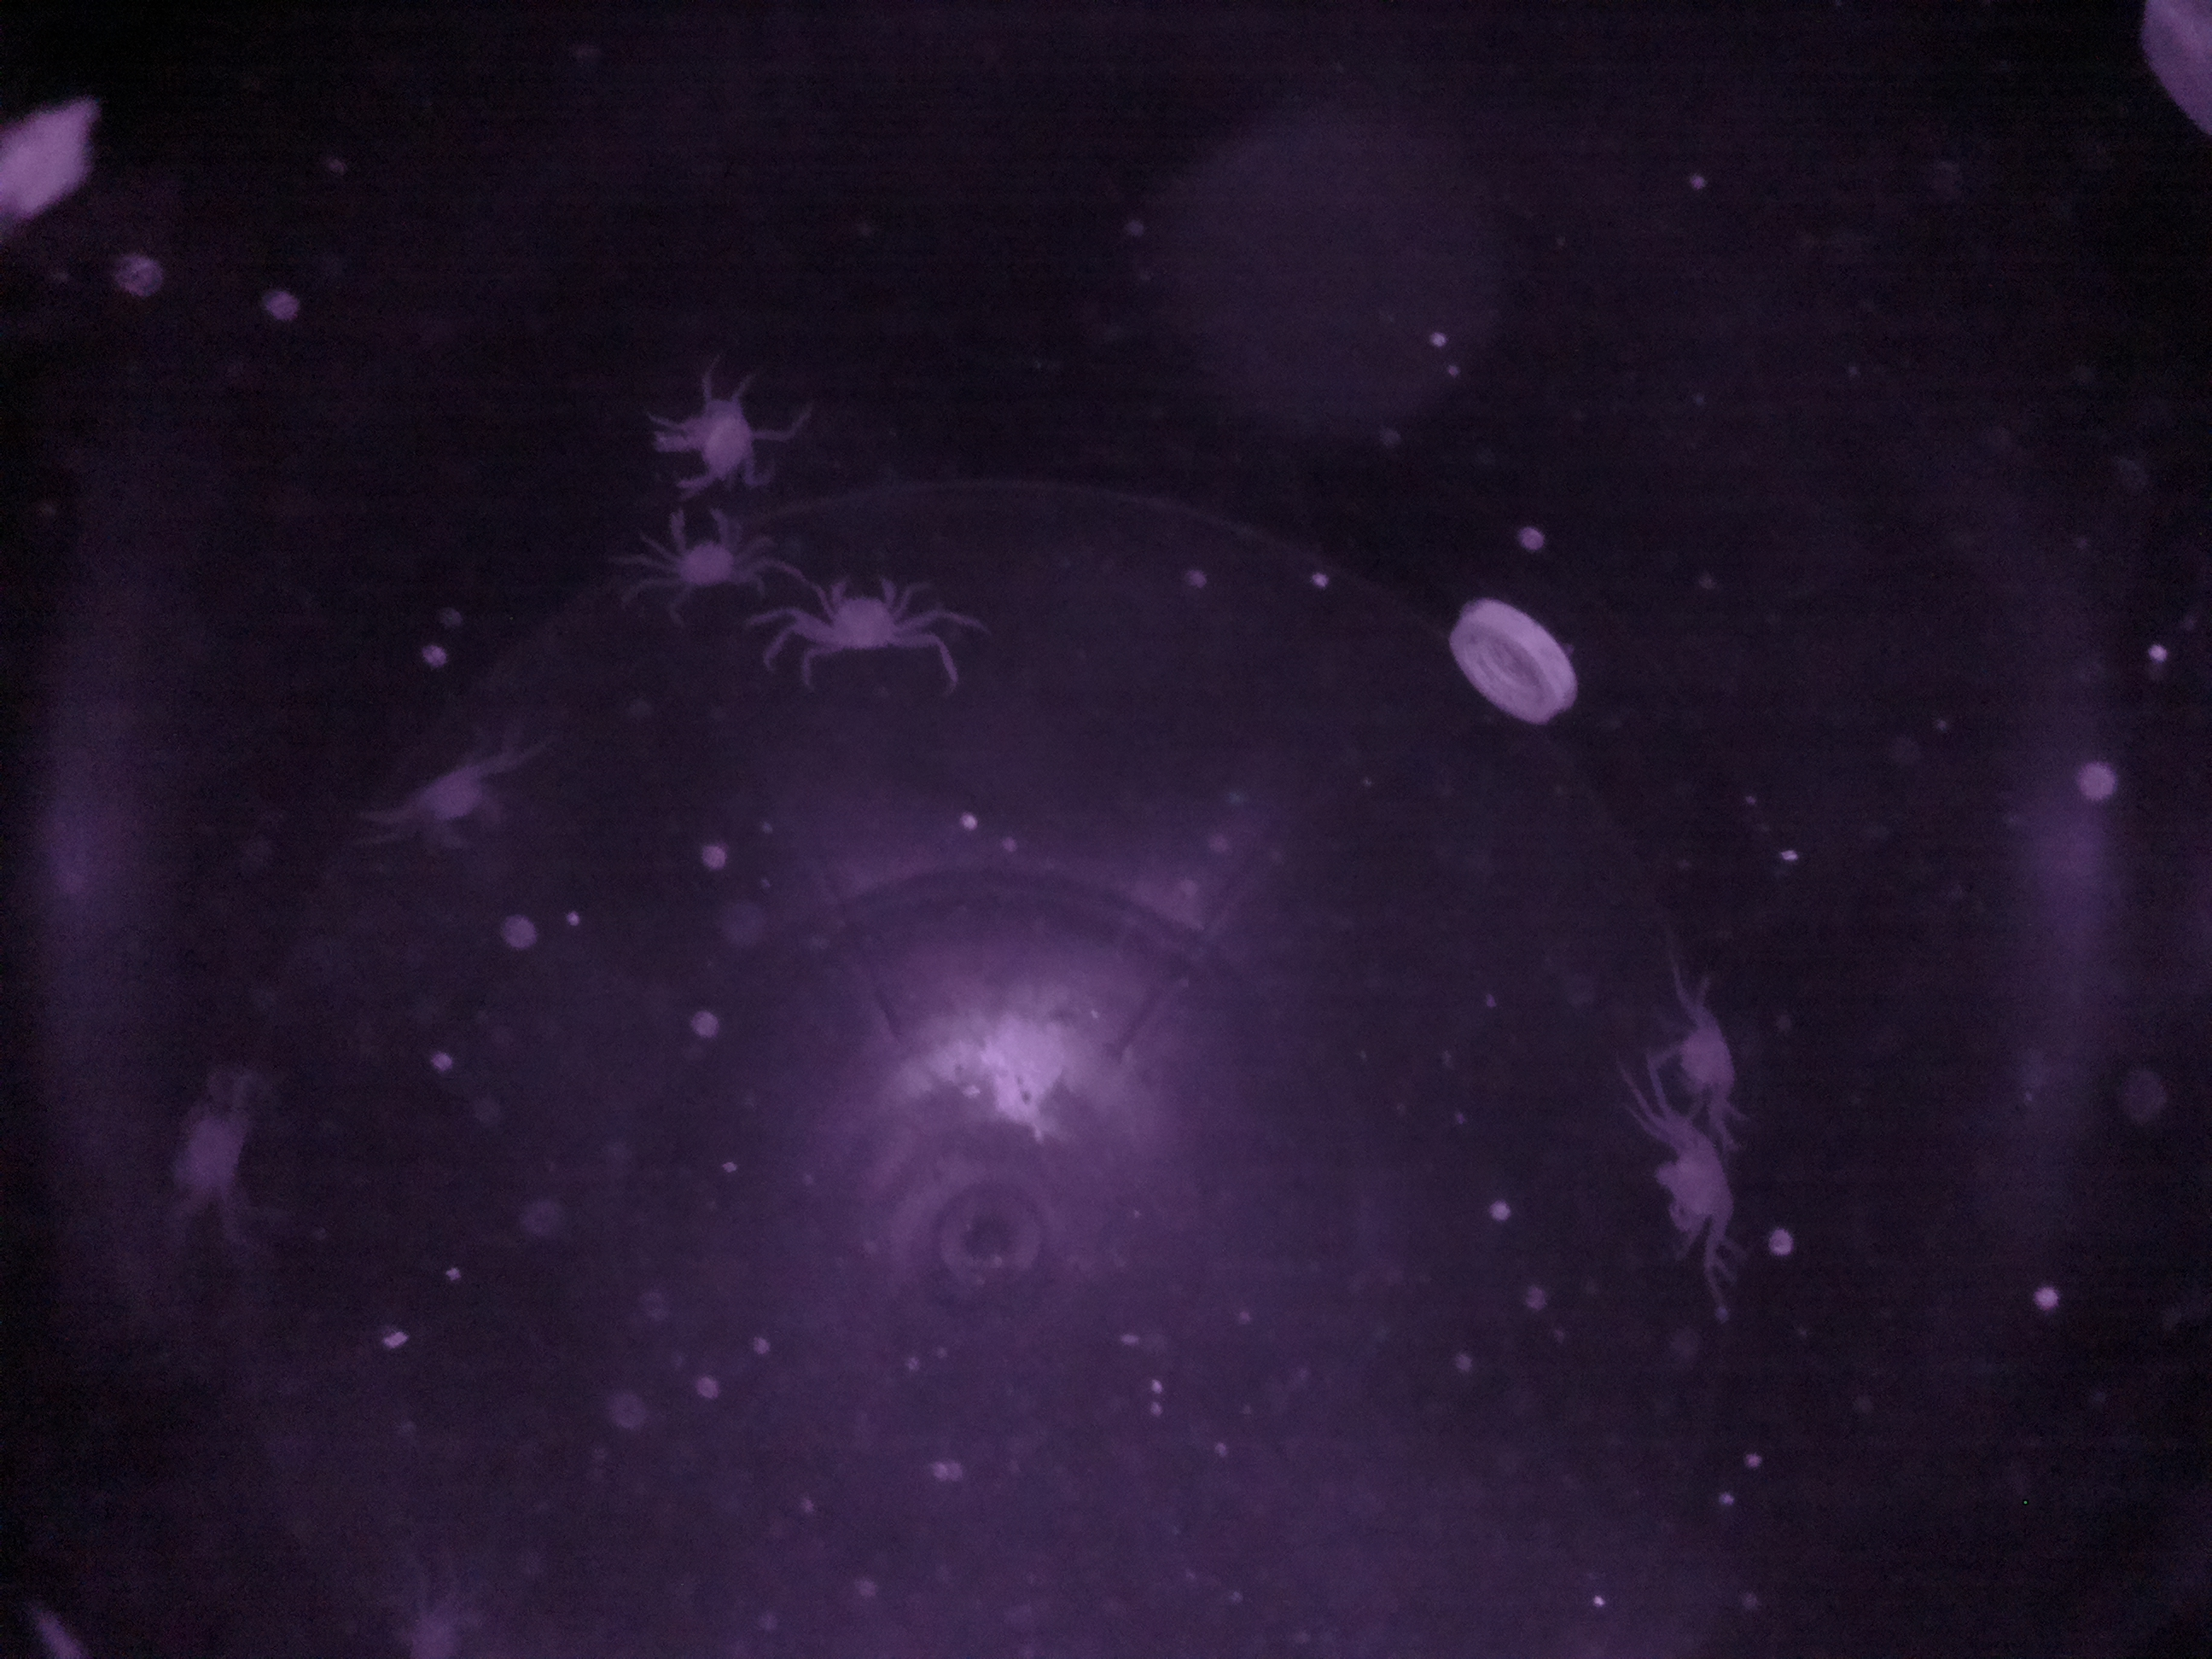Crab: (1637, 1133, 1759, 1262), (810, 561, 932, 671), (653, 498, 749, 615)
